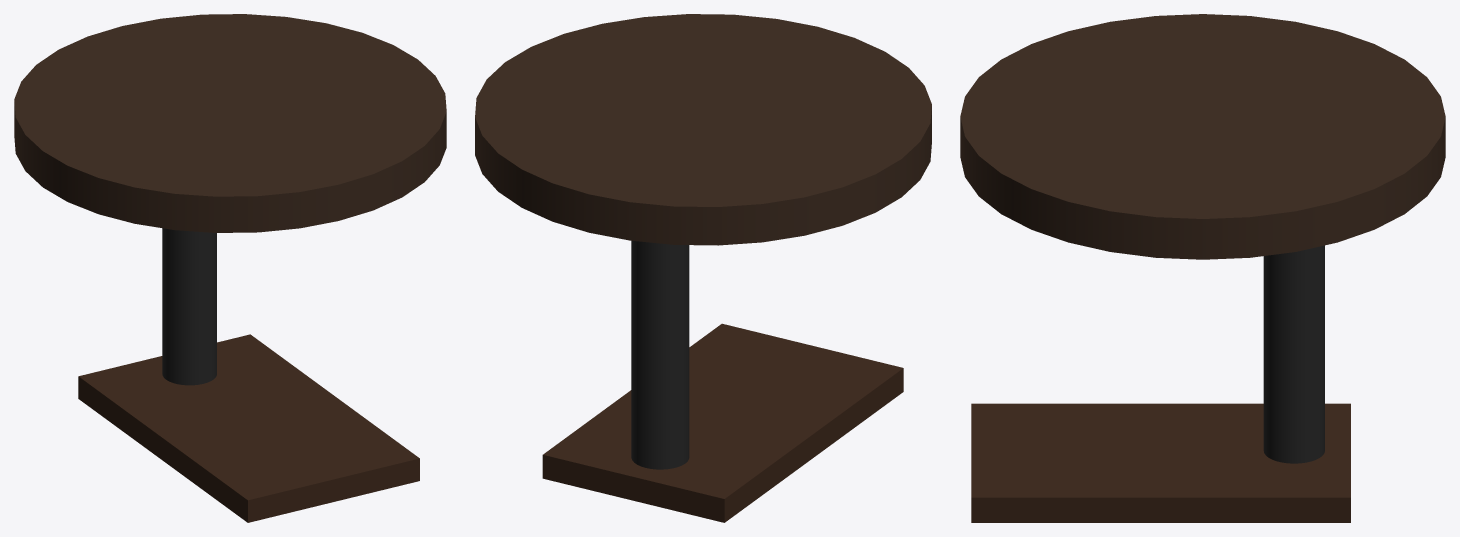
Rendered from sehpa.fbx.
3 views of the same model, side by side, from view 1: azimuth 30°, elevation 25°; view 2: azimuth 150°, elevation 25°; view 3: azimuth 270°, elevation 25° (orthographic). The views are drawn at different scales.
Visible parts, largest first — view 1: Cylinder, Cube, Cylinder.001; view 2: Cylinder, Cube, Cylinder.001; view 3: Cylinder, Cube, Cylinder.001.
Part boxes in pixels (x1=…): Cylinder: x1=14, y1=14, x2=446, y2=232; Cube: x1=78, y1=334, x2=419, y2=522; Cylinder.001: x1=162, y1=228, x2=216, y2=385; Cylinder: x1=475, y1=14, x2=931, y2=245; Cube: x1=542, y1=323, x2=903, y2=522; Cylinder.001: x1=631, y1=240, x2=689, y2=469; Cylinder: x1=960, y1=14, x2=1445, y2=259; Cube: x1=971, y1=403, x2=1350, y2=522; Cylinder.001: x1=1263, y1=245, x2=1324, y2=463.
Size of the model in its own units: 436 by 357 by 436.
